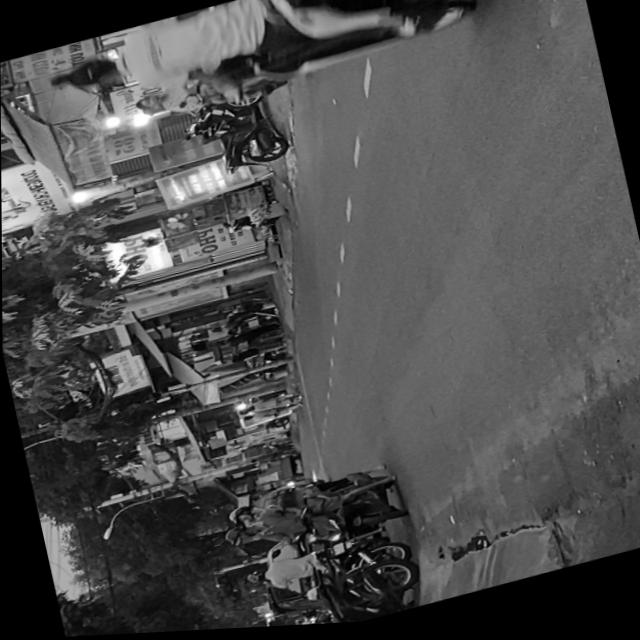helmet: (220, 521, 259, 547), (223, 502, 257, 528)
licenseplate: (37, 0, 513, 149), (215, 460, 407, 568)
motorcyclist: (48, 47, 128, 97)
